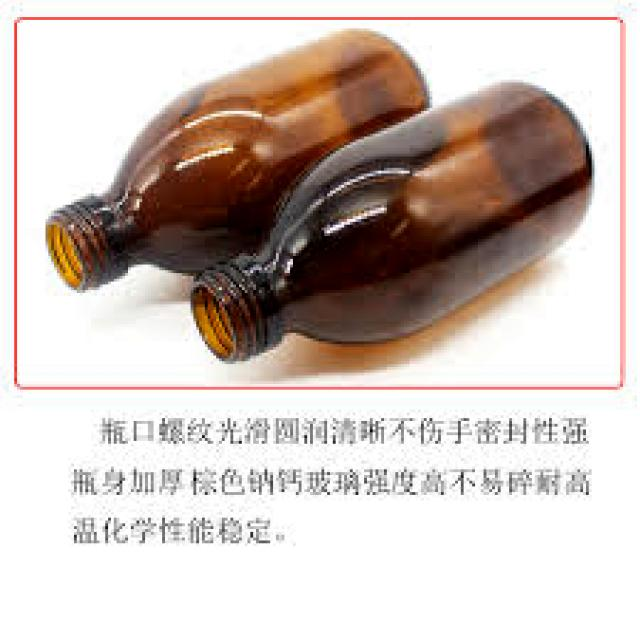Glass: (179, 70, 598, 373), (31, 23, 438, 308)
